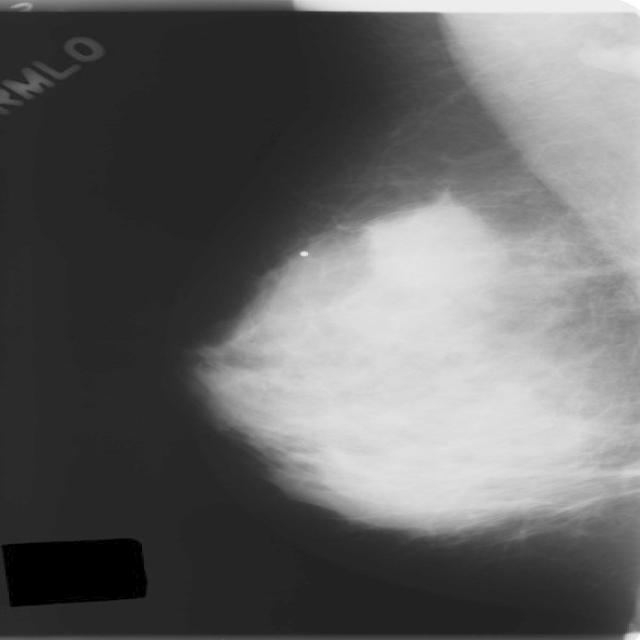tumour: (359, 194, 502, 297)
